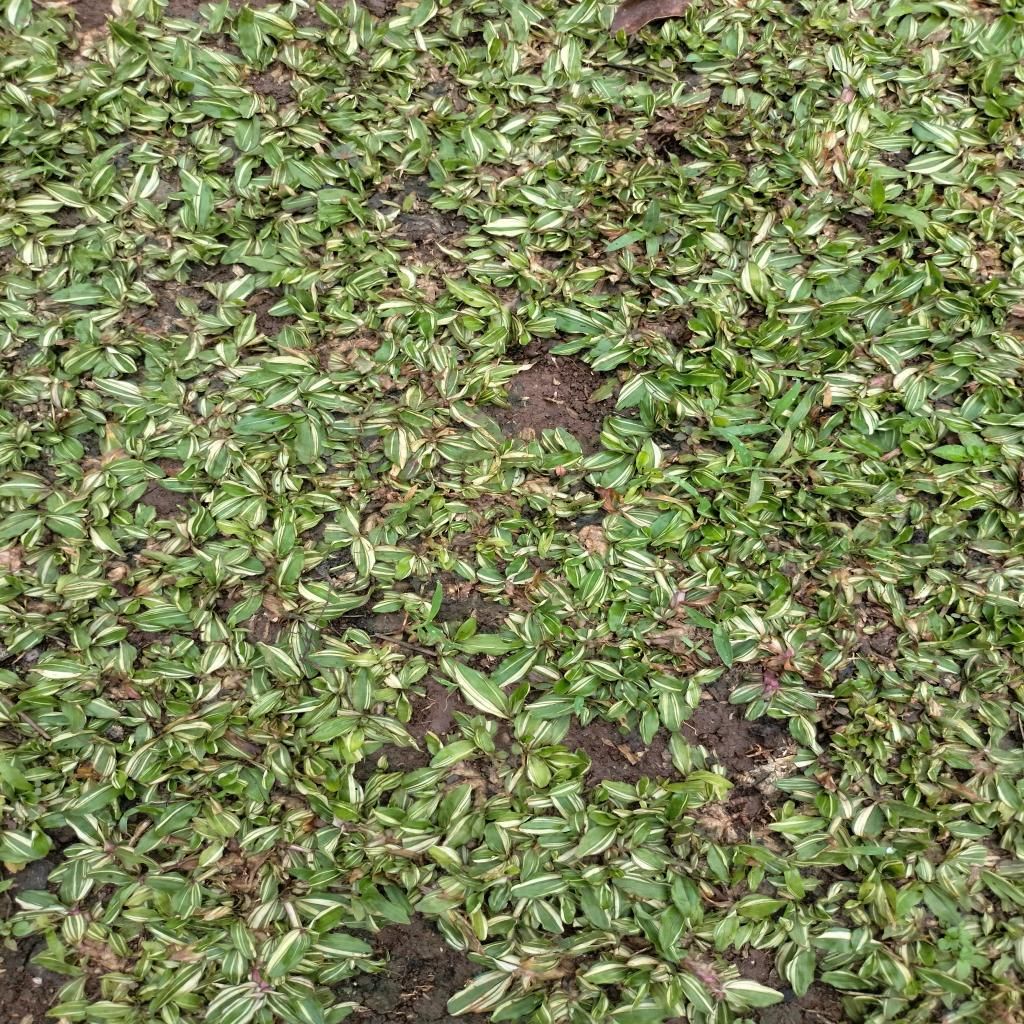bayi: (950, 610, 972, 622), (622, 762, 628, 771)
rambat atas: (683, 604, 736, 666), (404, 580, 449, 639), (615, 208, 663, 253), (672, 474, 714, 510), (34, 149, 77, 180), (778, 452, 851, 466), (117, 801, 147, 835), (733, 458, 788, 476), (757, 412, 786, 436), (430, 674, 460, 695)
rambat bawah: (866, 170, 931, 229)
